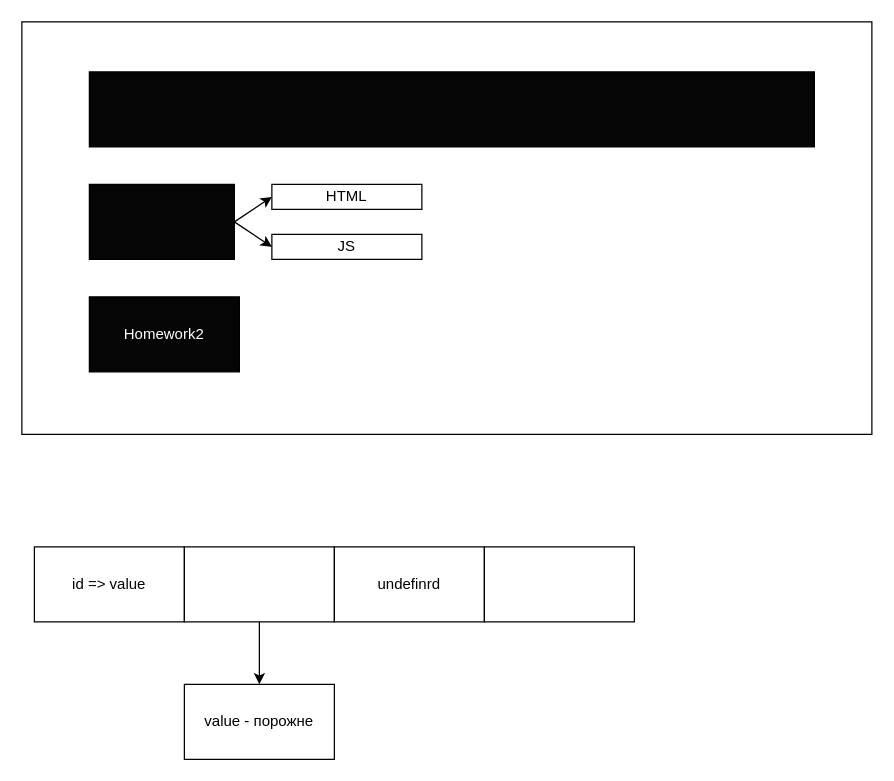
Some shapes in this 894 by 781 pixel diagram are drawn without their labels. The shapes that lost their labels are listed below. From the top down, each one's centre as x and y in pixels, then its label:
pixel 451 109: URL = Link to repo
pixel 161 221: Homework1
pixel 258 584: id = a
